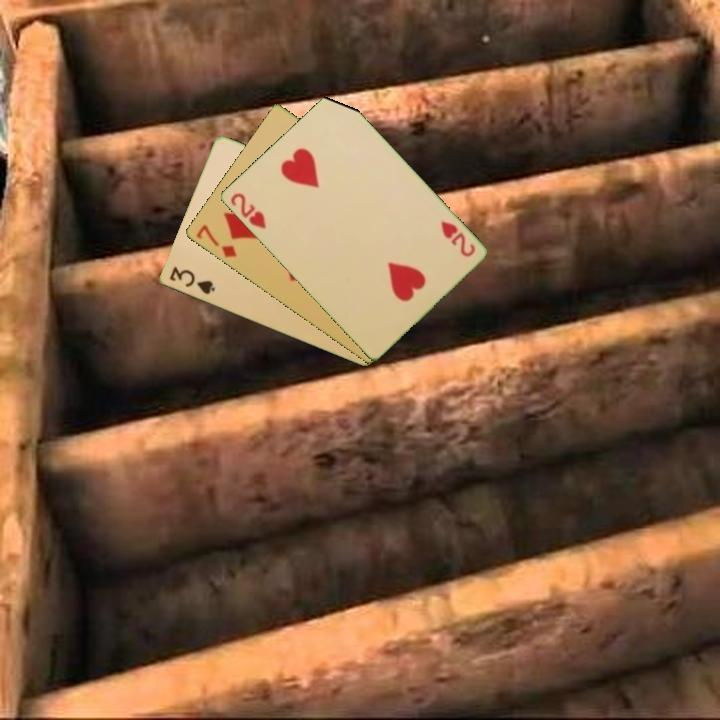2h: (227, 189, 269, 232), (437, 217, 478, 260)
3s: (165, 263, 218, 298)
7d: (192, 221, 240, 261)
